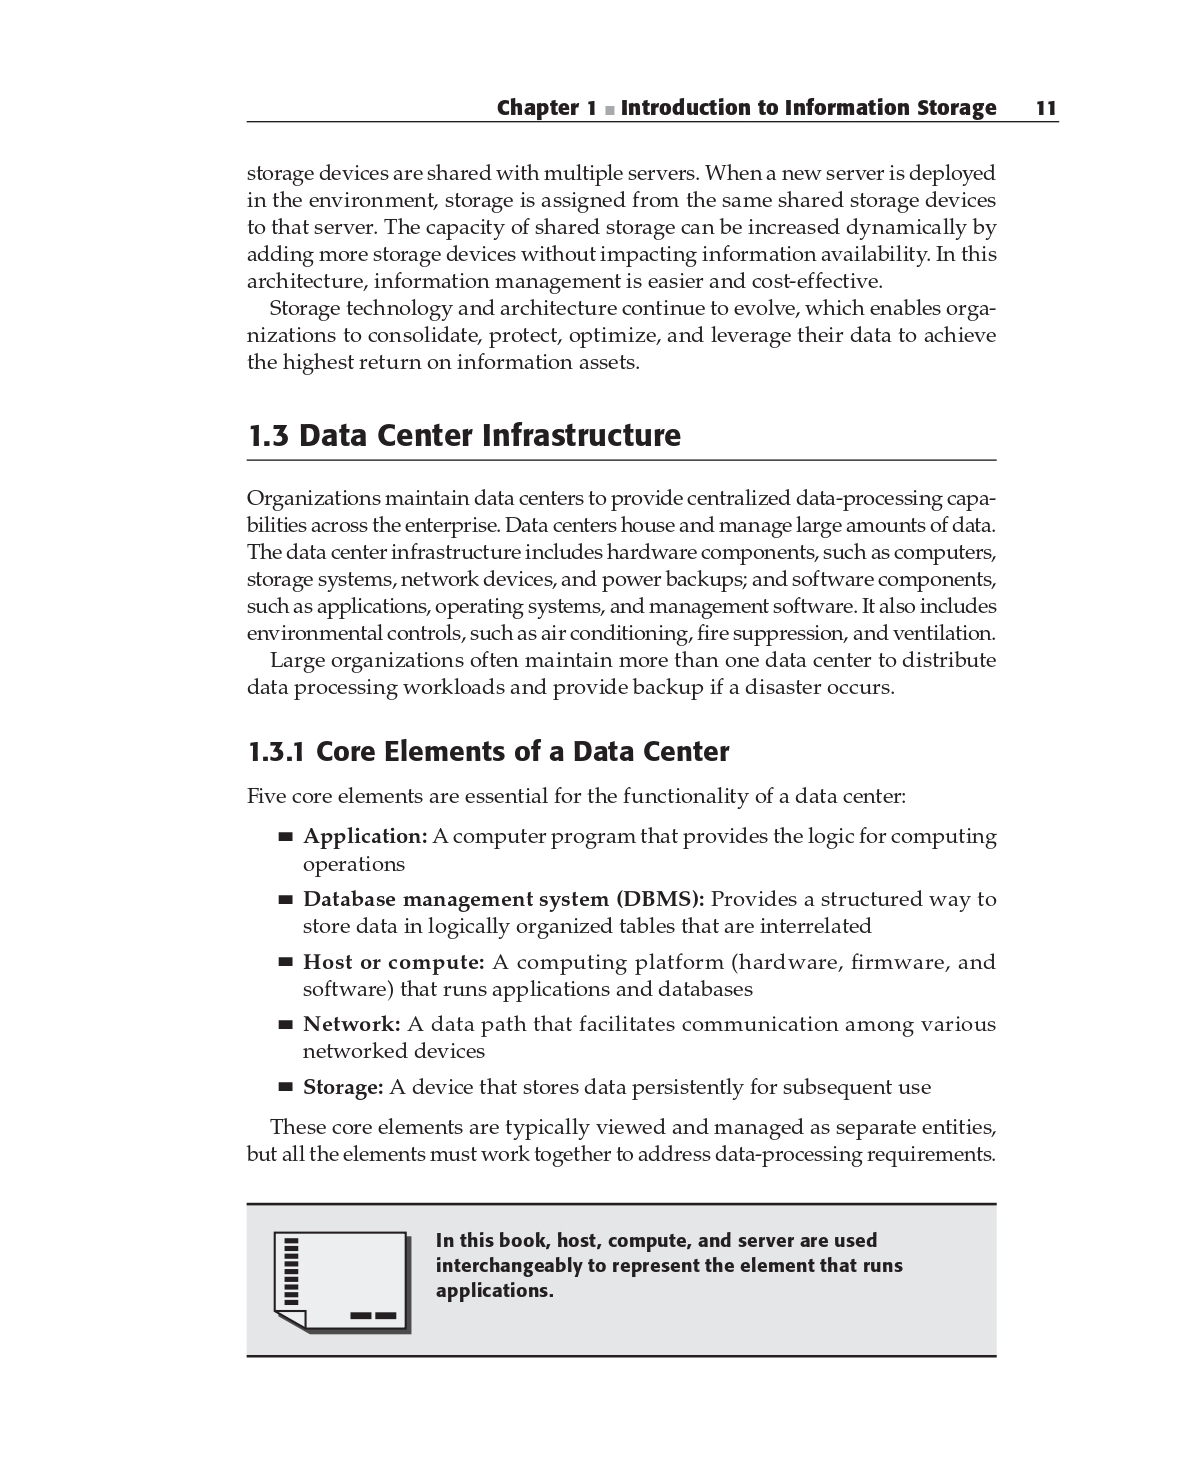Image: (263, 1221, 418, 1343)
Paragraph: (207, 779, 990, 1177), (225, 135, 1026, 385), (228, 476, 1001, 710), (429, 1224, 916, 1317), (230, 719, 765, 785), (479, 76, 1086, 126), (225, 408, 692, 458)
